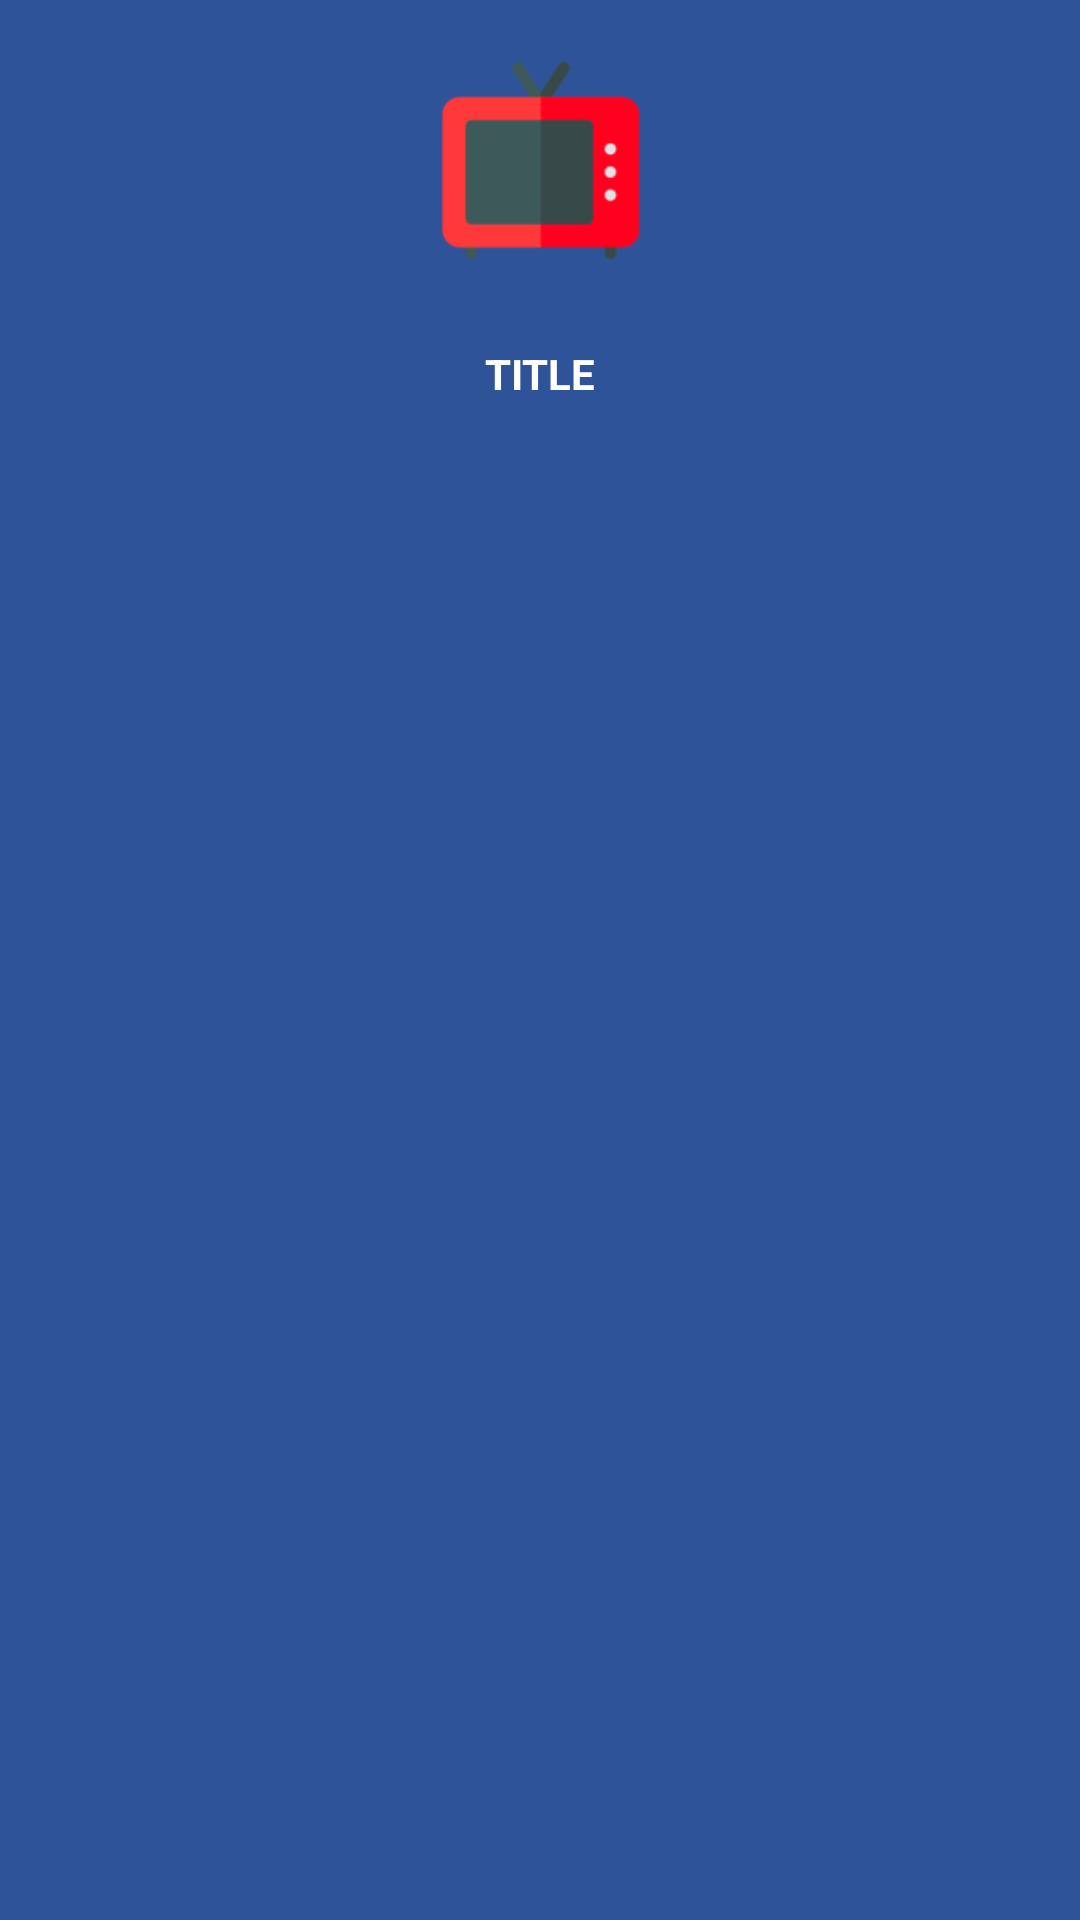

Point at icon controls on the screen. Image size 1080*1920, points as point (x, y).
object tv: point (541, 160)
